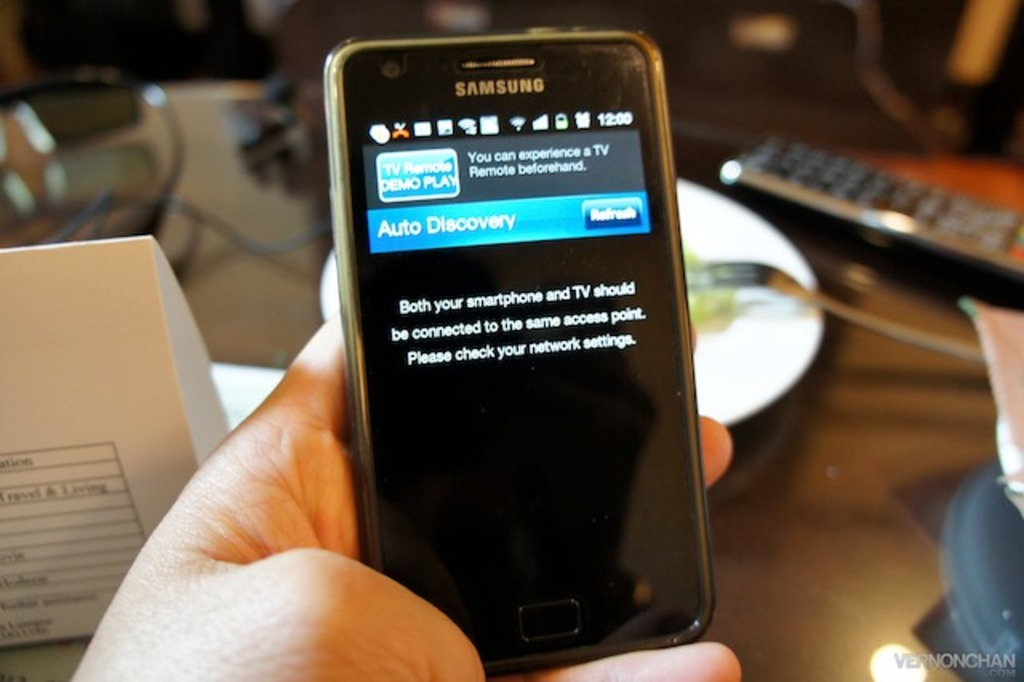Mobile-phone: (320, 40, 709, 672)
